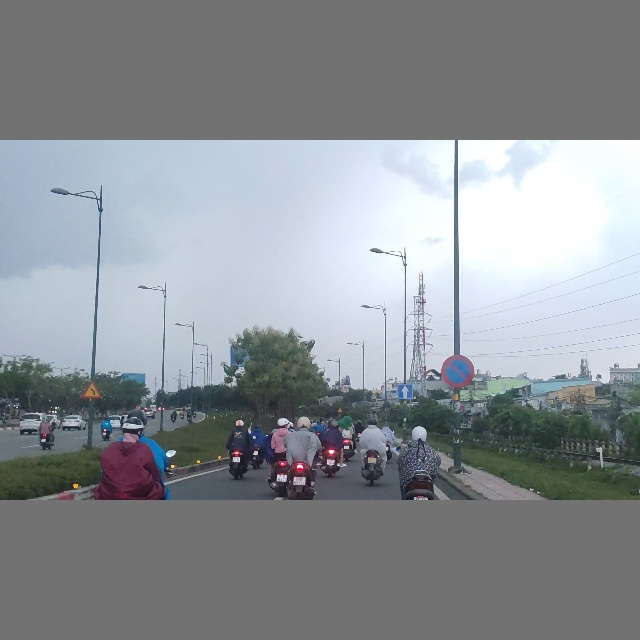I.407a: (398, 384, 413, 399)
P.131a: (441, 355, 475, 387)
W.201a: (82, 381, 101, 398)
